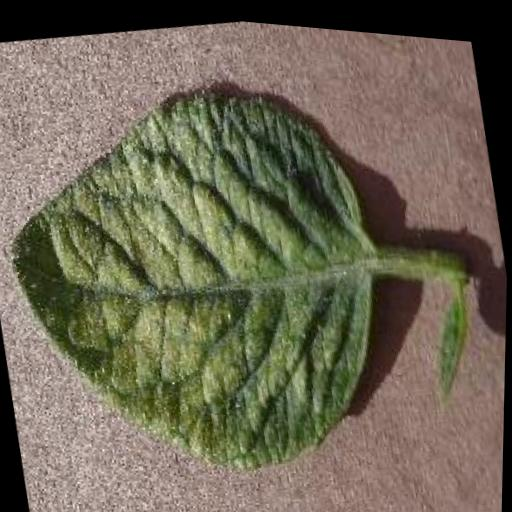Spider Mites: (0, 47, 406, 506)
